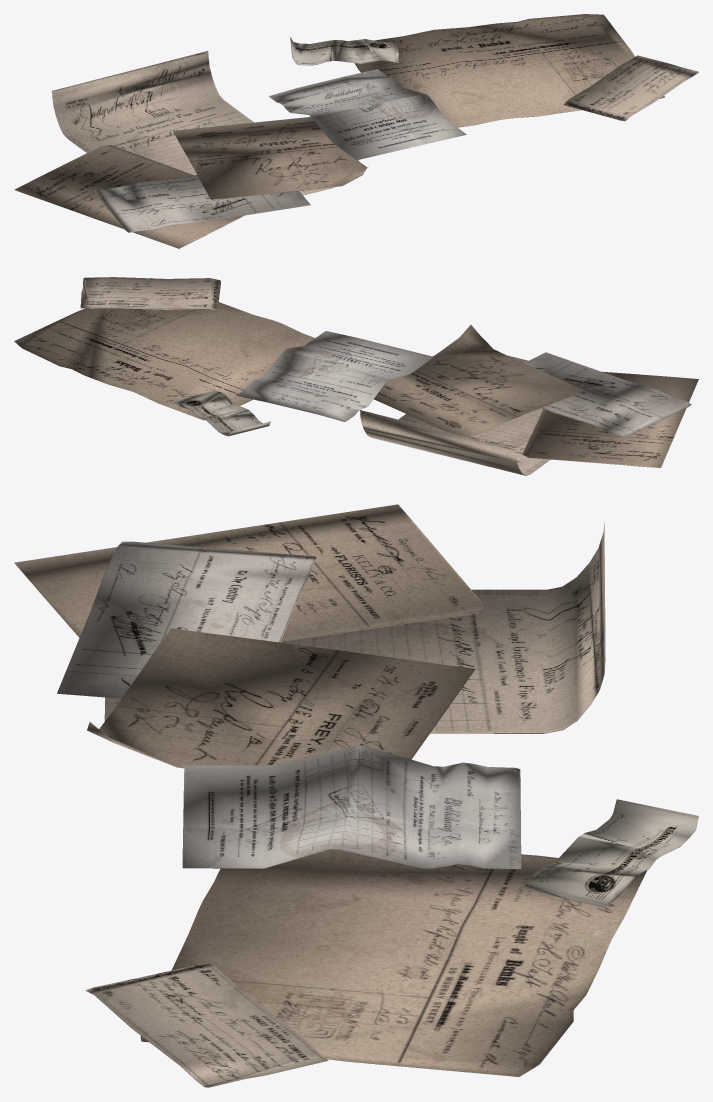
The model's file is 19th-Century Paper Clutter Receipts.001.fbx.
3 views of the same model, one above another, from view 1: azimuth 30°, elevation 25°; view 2: azimuth 150°, elevation 25°; view 3: azimuth 270°, elevation 25° (orthographic). The views are drawn at different scales.
Parts seen in each view (by area): view 1: 19th-Century Paper Clutter Receipts.001; view 2: 19th-Century Paper Clutter Receipts.001; view 3: 19th-Century Paper Clutter Receipts.001.
Part boxes in pixels (x1,y1,x2,y2): 19th-Century Paper Clutter Receipts.001: (14,14,698,248); 19th-Century Paper Clutter Receipts.001: (14,277,698,475); 19th-Century Paper Clutter Receipts.001: (14,504,698,1087).
Size of the model in its own units: 81.8 by 4.76 by 40.54.
2 materials, 2 textured.
